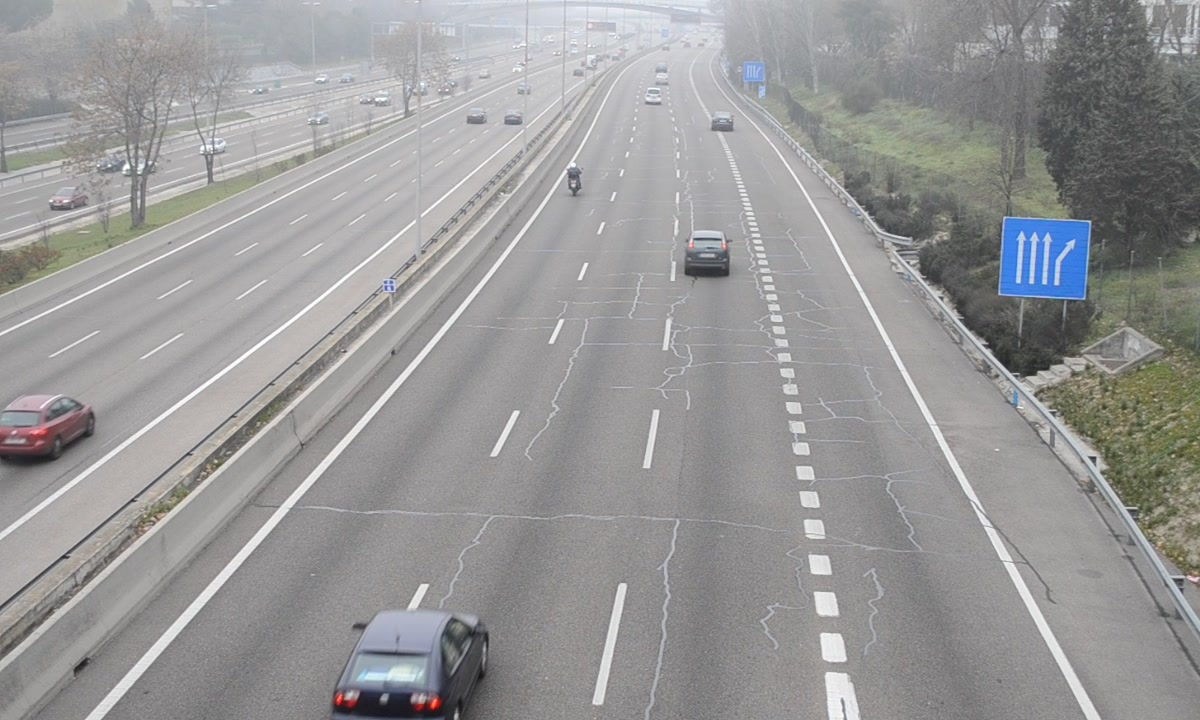car: (335, 610, 487, 720), (684, 230, 732, 278), (711, 112, 732, 132)
motorcycle: (565, 163, 583, 198)
